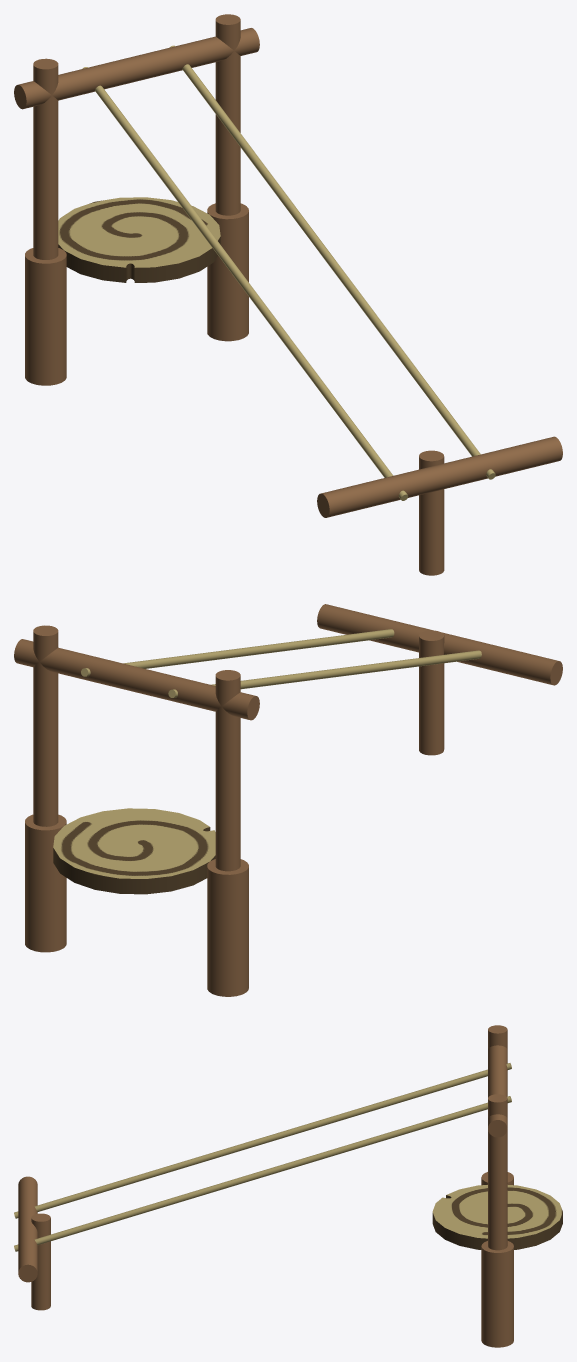
The model's file is zipB.obj.
3 views of the same model, one above another, from view 1: azimuth 30°, elevation 25°; view 2: azimuth 150°, elevation 25°; view 3: azimuth 270°, elevation 25° (orthographic). The views are drawn at different scales.
Visible parts, largest first — view 1: body; view 2: body; view 3: body.
Boxes of the visible parts, x1=… form: body: x1=14, y1=14, x2=562, y2=575; body: x1=14, y1=604, x2=562, y2=996; body: x1=14, y1=1025, x2=562, y2=1347.
Bounding box in the file's own units: 3.2 × 4.1 × 8.41.
